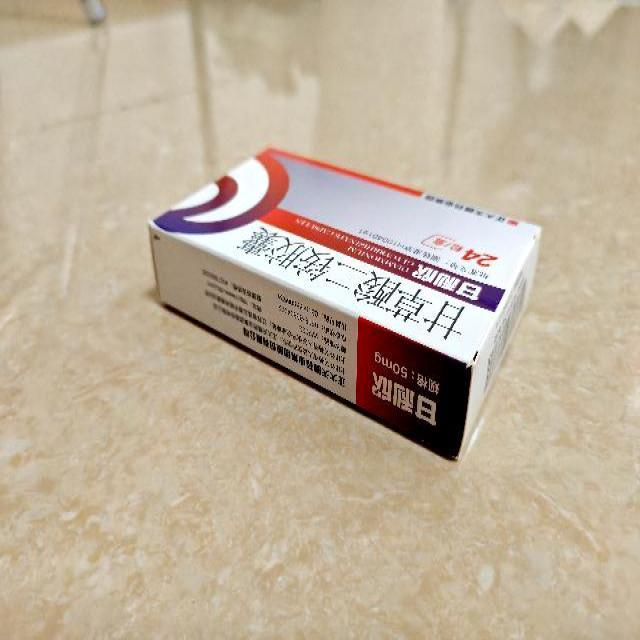box: (148, 144, 542, 462)
